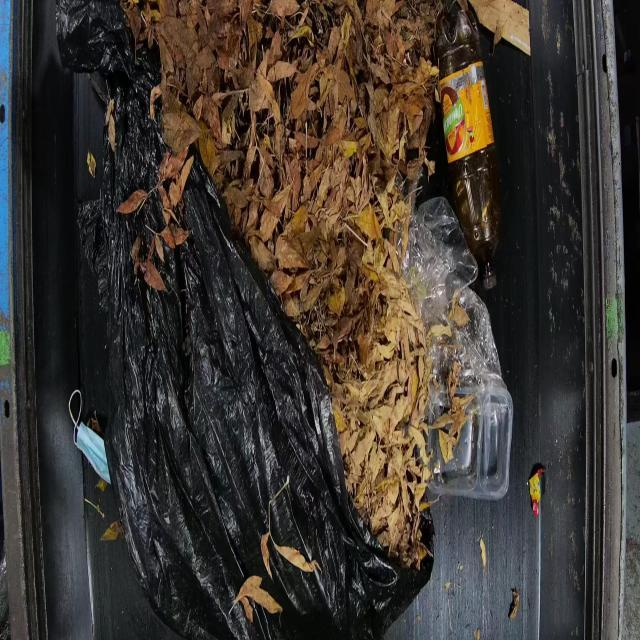bottles: (432, 0, 502, 273)
cups: (425, 371, 513, 500)
